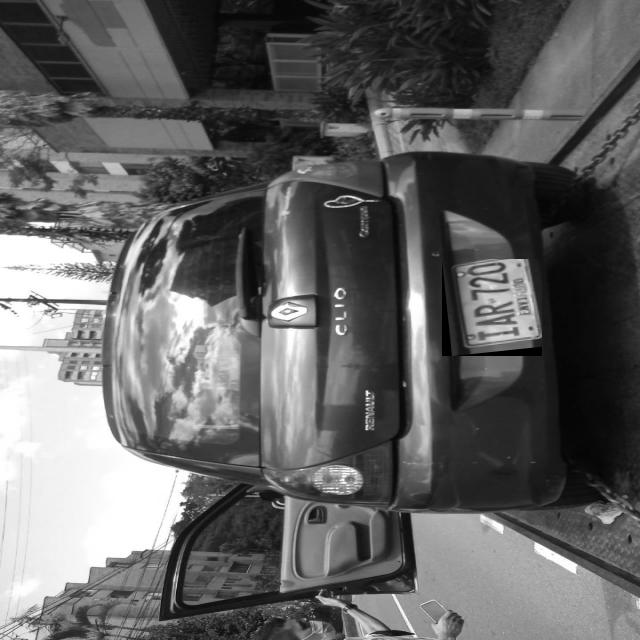plate: (442, 259, 542, 356)
